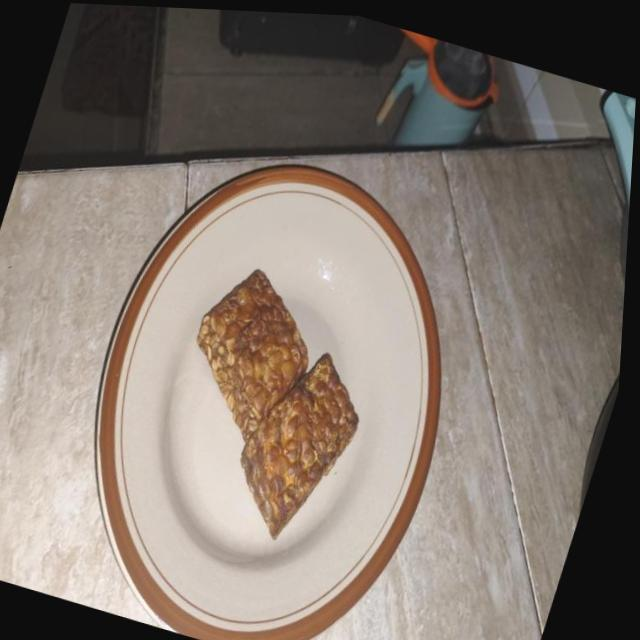tempe_goreng: (241, 353, 358, 538), (197, 270, 308, 440)
